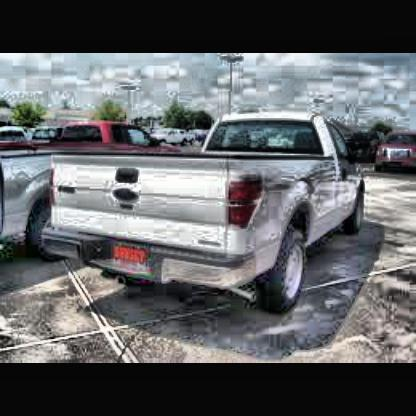Ford F-150 Regular Cab 2012: (49, 109, 370, 320)
